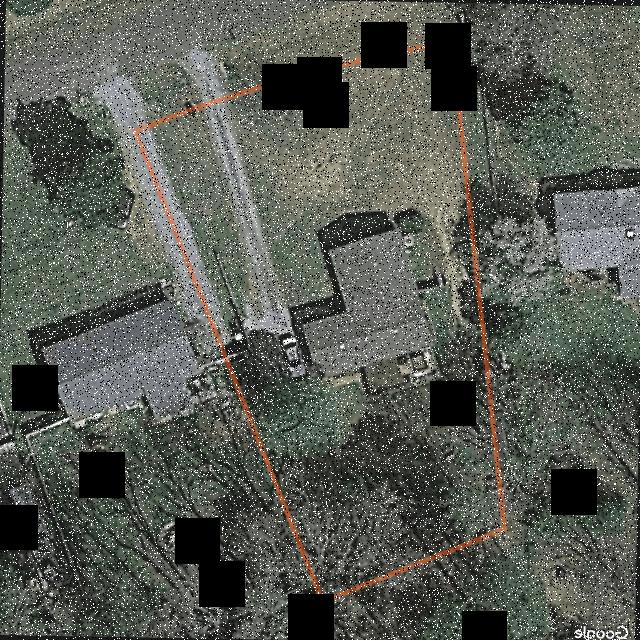Driveway: (205, 103, 305, 381)
Extra Driveway: (178, 48, 223, 103)
Extra Lawn: (210, 0, 455, 94), (139, 62, 199, 118)
Extra Sidewalk: (116, 73, 151, 127)
House: (301, 227, 435, 384)
Other: (359, 347, 442, 400)
